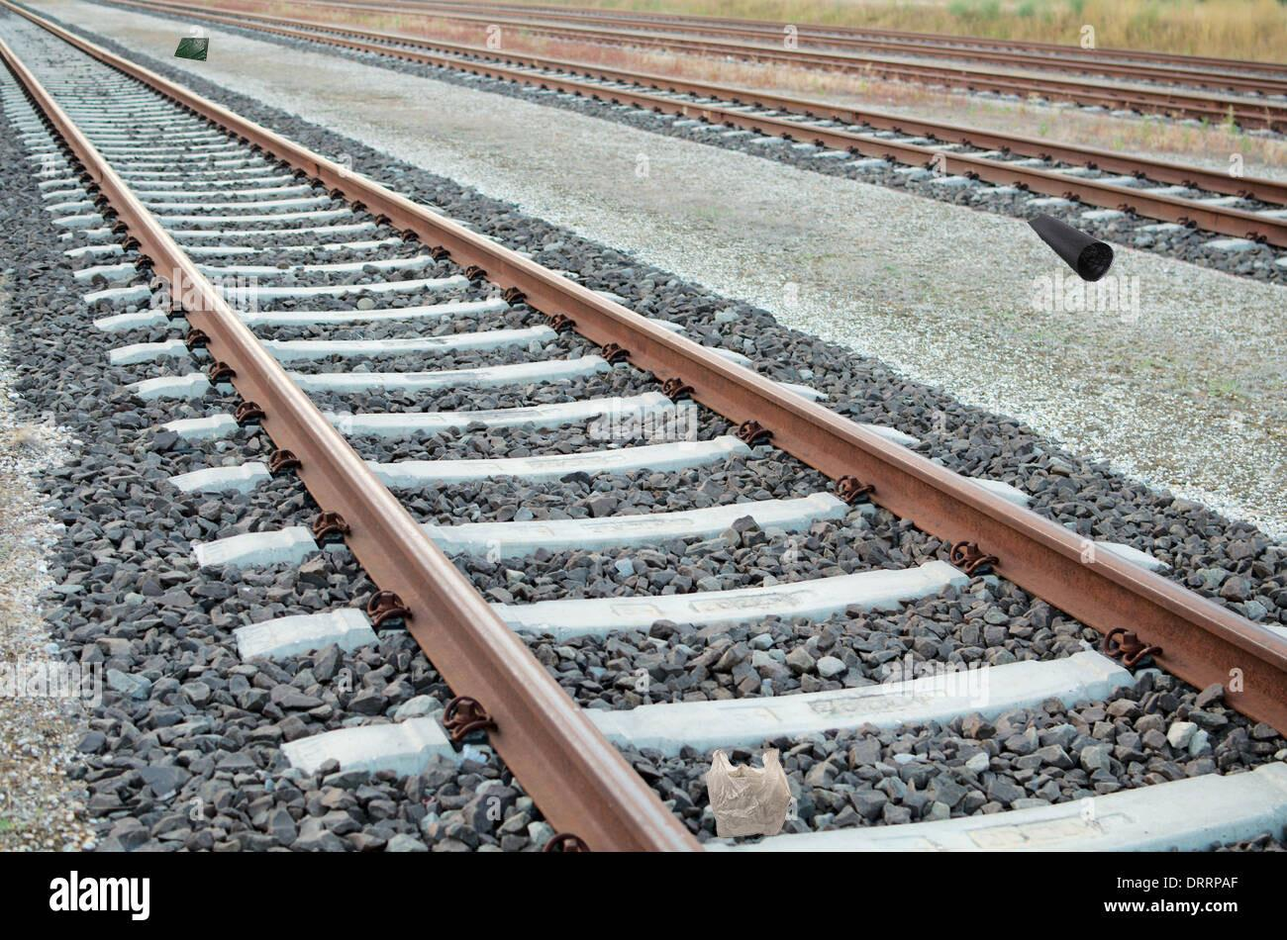Dust_screen: (170, 28, 218, 69)
Plastic: (707, 742, 796, 835)
